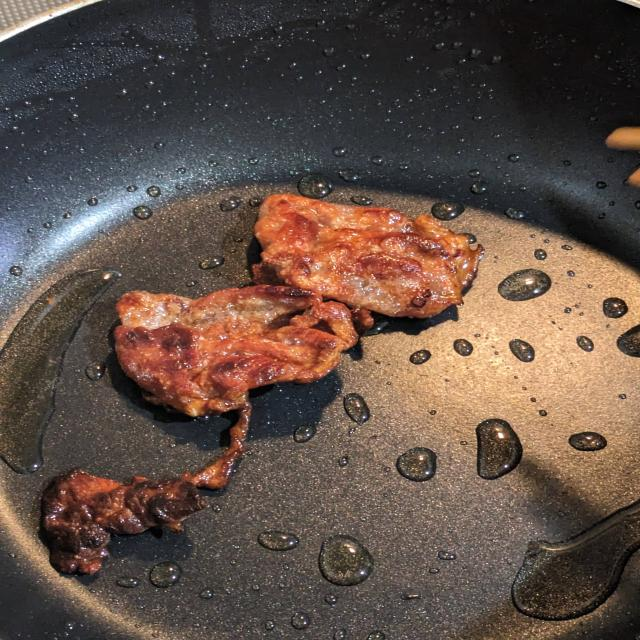overcooked pork: (34, 287, 381, 584), (252, 194, 496, 325)
